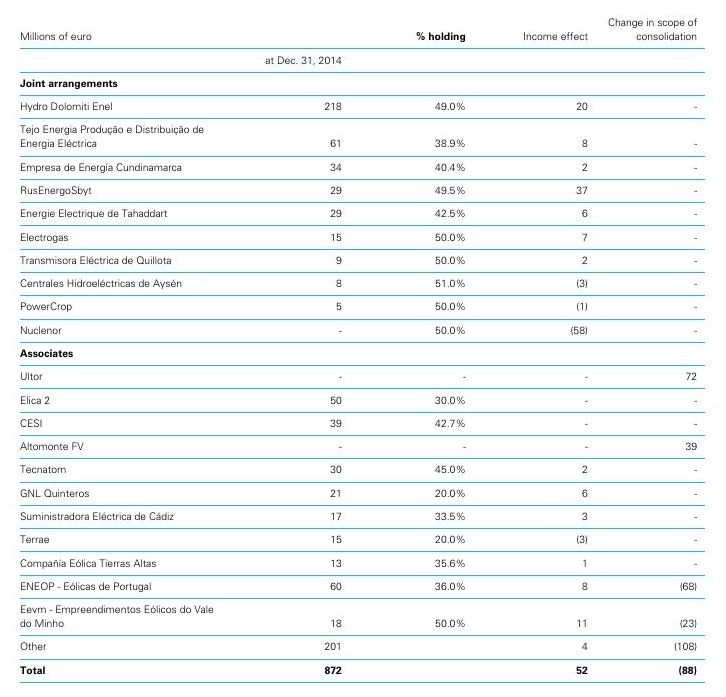table: (0, 0, 726, 697)
